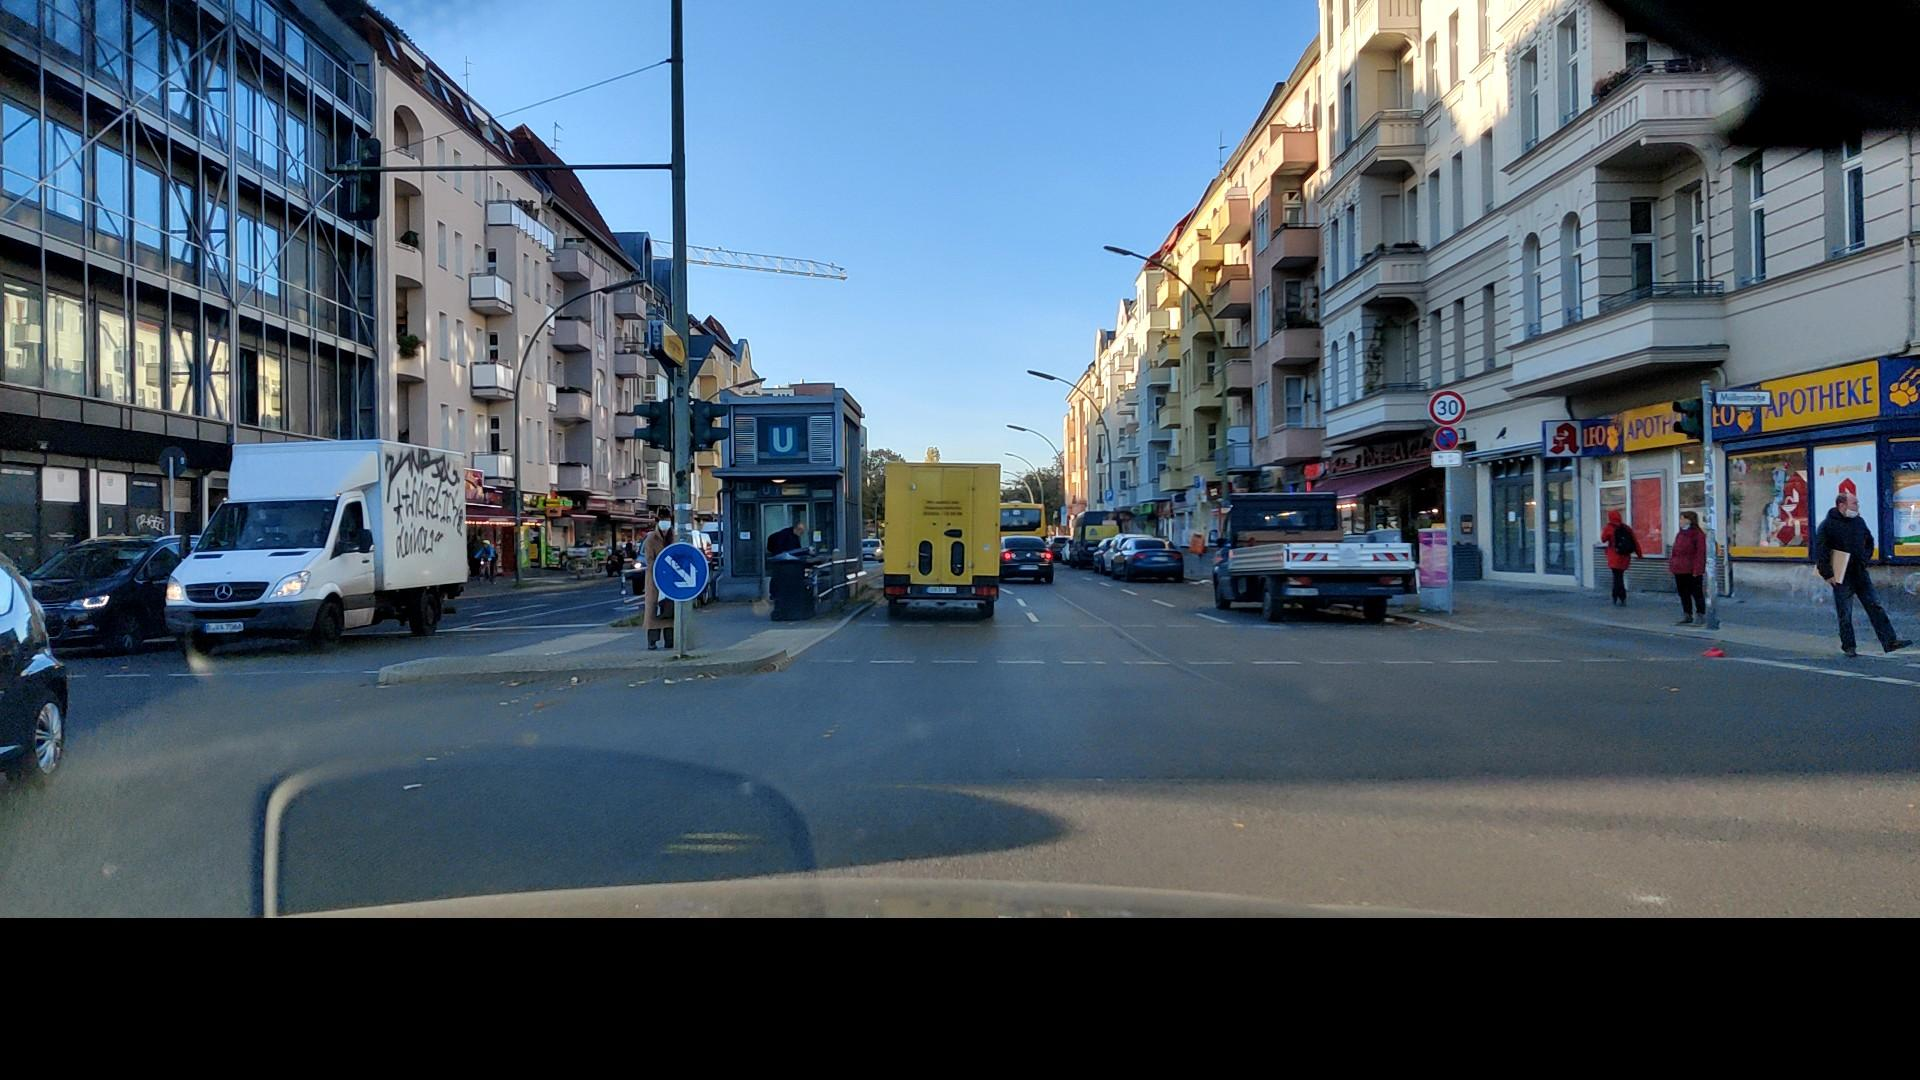Human face: (1836, 494, 1860, 518), (654, 512, 671, 533), (1678, 512, 1694, 530), (793, 521, 805, 536)
Vehicle registration plate: (1282, 586, 1319, 596), (202, 622, 243, 632), (921, 585, 957, 594), (1018, 564, 1039, 570), (1149, 556, 1169, 561)
